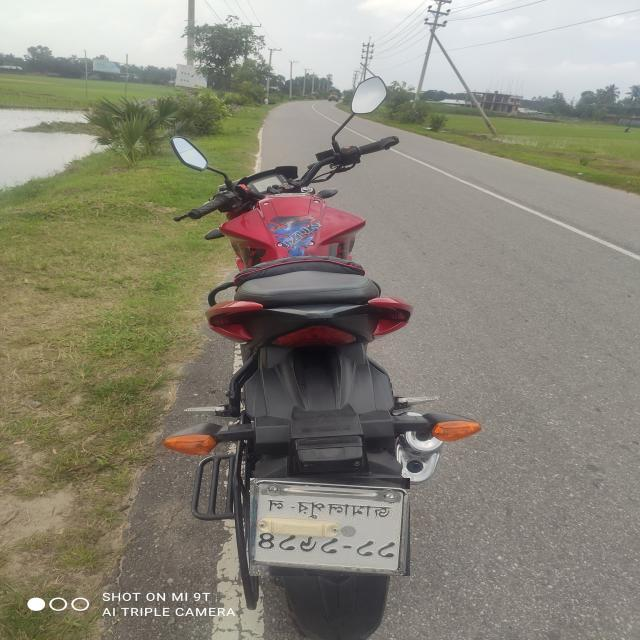numberplate: (250, 478, 410, 576)
